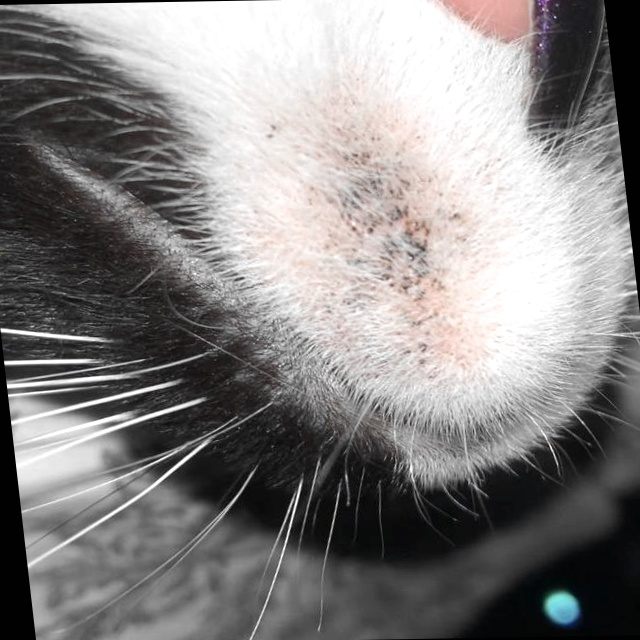acne: (238, 97, 491, 391)
